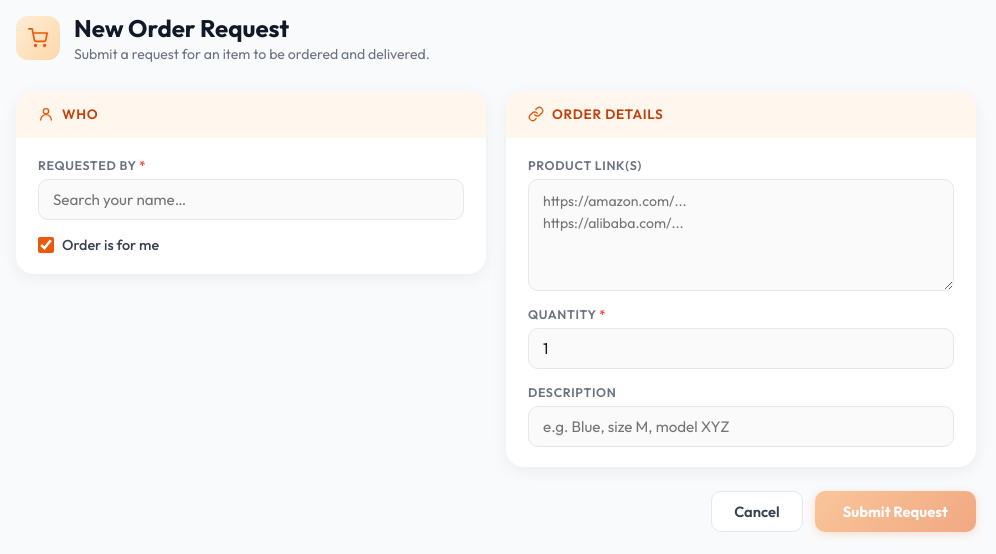
Test: CreateOrderRequestPage › unchecking "Order is for me" reveals recipient dropdown
Expected: the field with placeholder "Search recipient name…" is not shown
Click the checkbox. click: click(46, 245)
box: [38, 237, 54, 253]
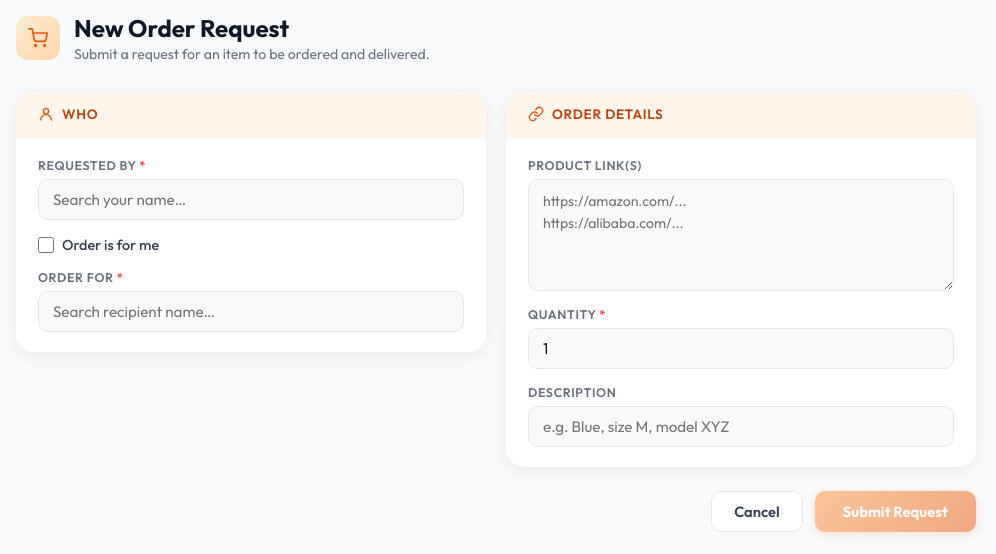
Now the field with placeholder "Search recipient name…" is shown, box [38, 291, 464, 332]
